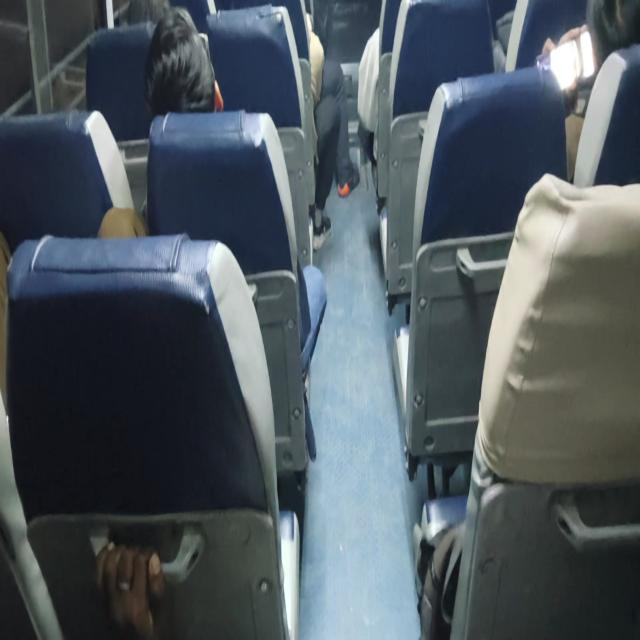person: (97, 6, 328, 458), (214, 1, 356, 250), (96, 6, 224, 239), (538, 0, 640, 180), (307, 26, 359, 250), (144, 6, 224, 115), (94, 540, 168, 638)
